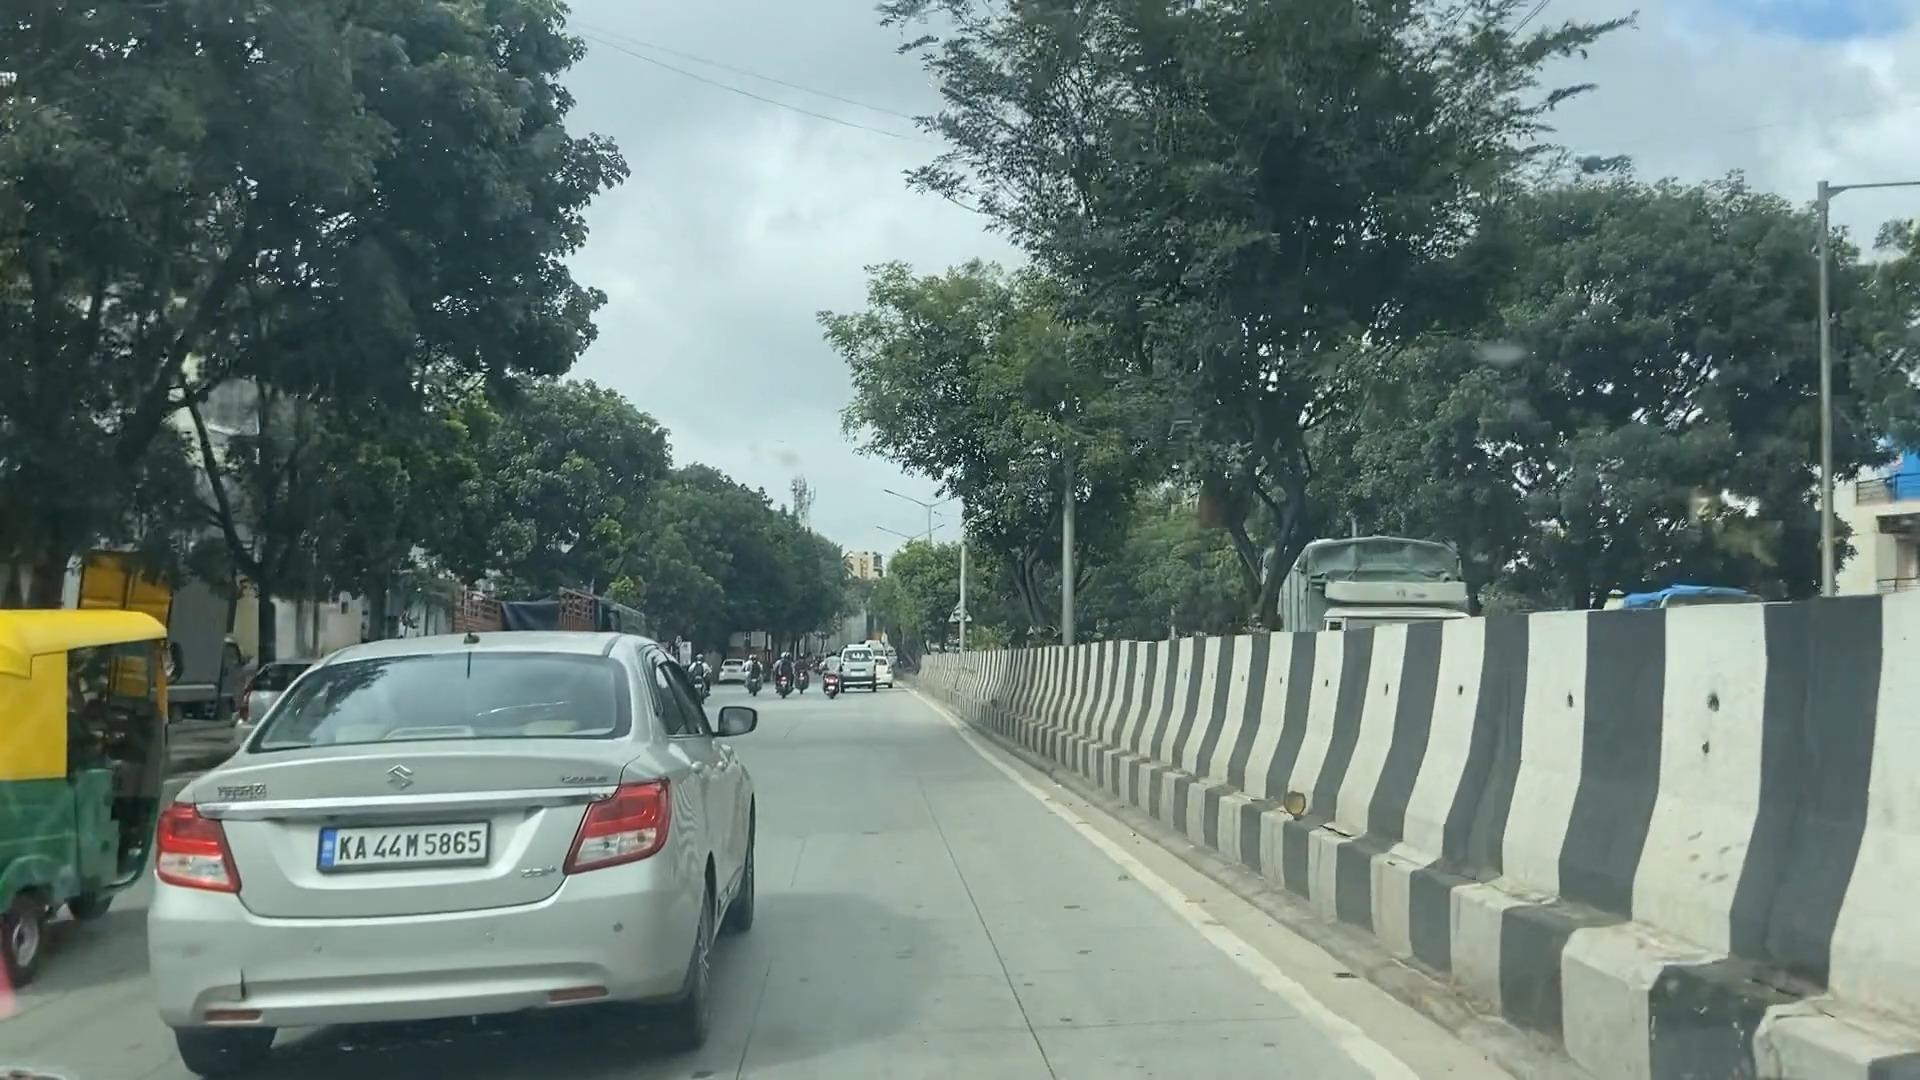LMV: (206, 638, 748, 1067), (0, 646, 179, 944)
